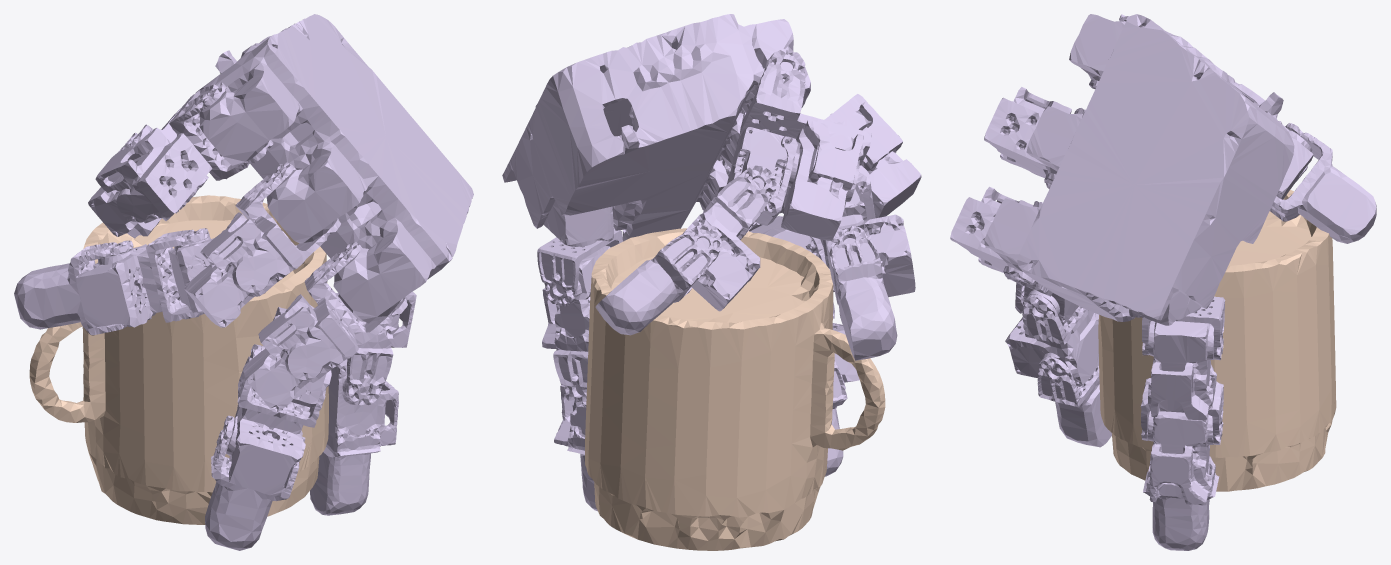
The picture shows the model from 3 angles, left to right: view 1: azimuth 30°, elevation 25°; view 2: azimuth 150°, elevation 25°; view 3: azimuth 270°, elevation 25°; orthographic projection. The views are drawn at different scales.
Parts seen in each view (by area): view 1: LEAP_hand, world; view 2: LEAP_hand, world; view 3: LEAP_hand, world.
Part boxes in pixels (x1,y1,x2,y2): LEAP_hand: (14,14,473,550); world: (29,195,328,524); LEAP_hand: (502,14,921,511); world: (585,228,885,550); LEAP_hand: (950,14,1376,550); world: (1098,190,1336,491).
Size of the model in its own units: 0.2078 by 0.2369 by 0.1873.
